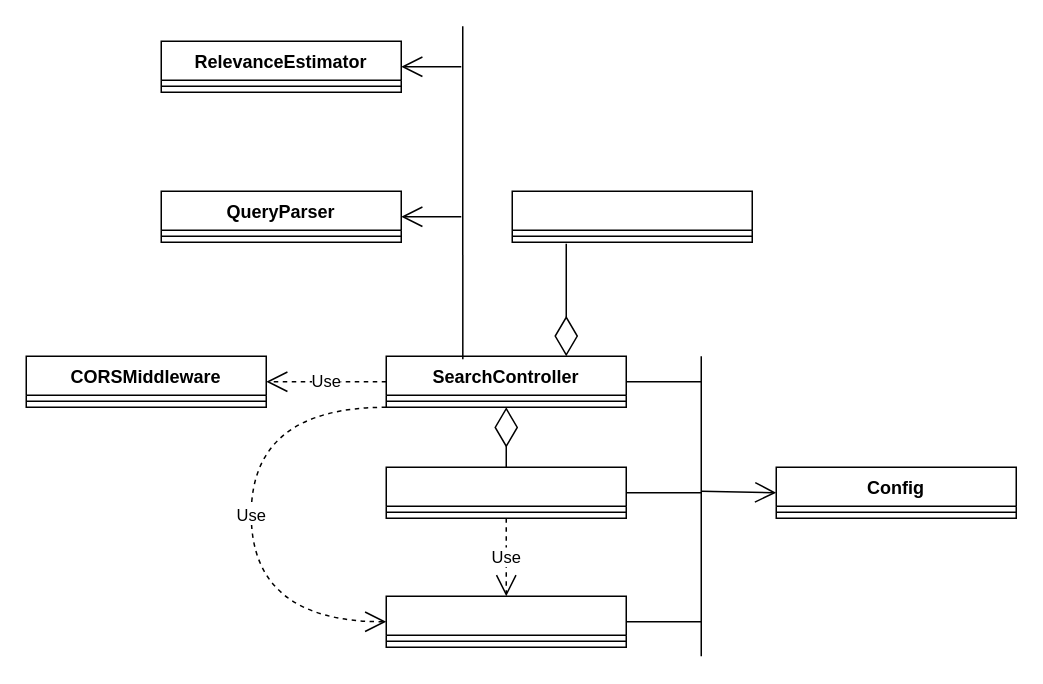
This 1043x684 diagram has some shape labels left out. The centre of each missing label's shape, as x and y in pixels:
ExternalBus: pixel 505 492
Logger: pixel 505 621
SearchQueriesCache: pixel 631 216
